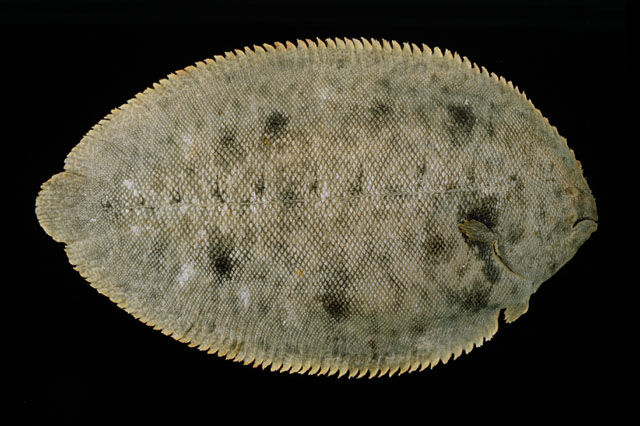fish: (36, 36, 598, 379)
